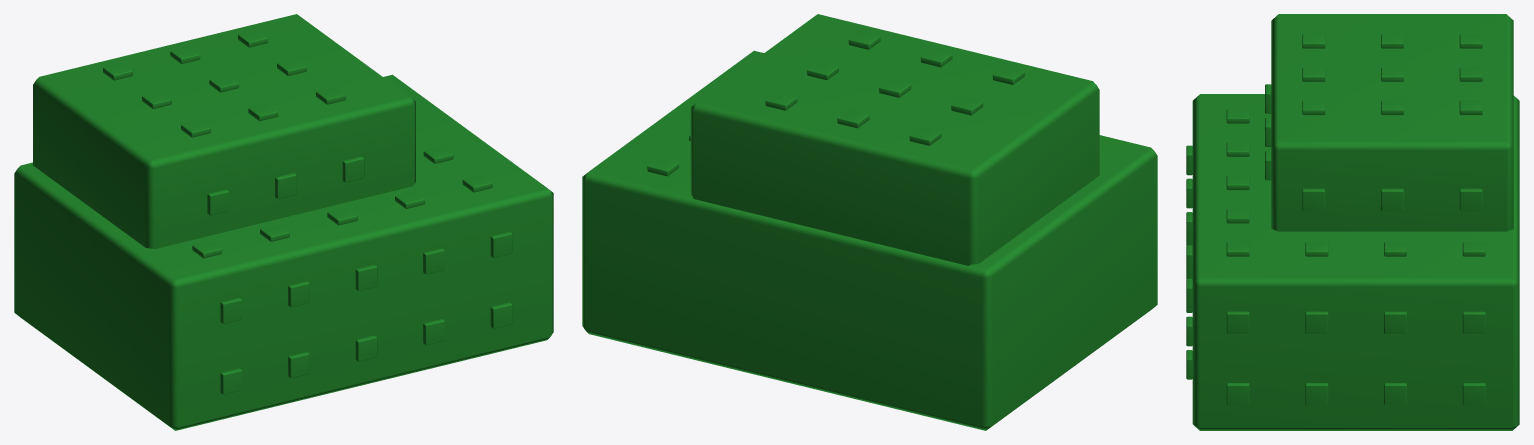
File: BrickBush.glb
3 renders of one model, left to right at view 1: azimuth 30°, elevation 25°; view 2: azimuth 150°, elevation 25°; view 3: azimuth 270°, elevation 25°, orthographic. The views are drawn at different scales.
Parts seen in each view (by area): view 1: BrickBush; view 2: BrickBush; view 3: BrickBush.
Boxes of the visible parts, bbox=[...] form: BrickBush: bbox=[14, 14, 553, 430]; BrickBush: bbox=[582, 14, 1157, 430]; BrickBush: bbox=[1186, 14, 1519, 430].
Size of the model in its own units: 3.75 by 2.25 by 2.75.
Materials: 1 (1 with a texture image).
